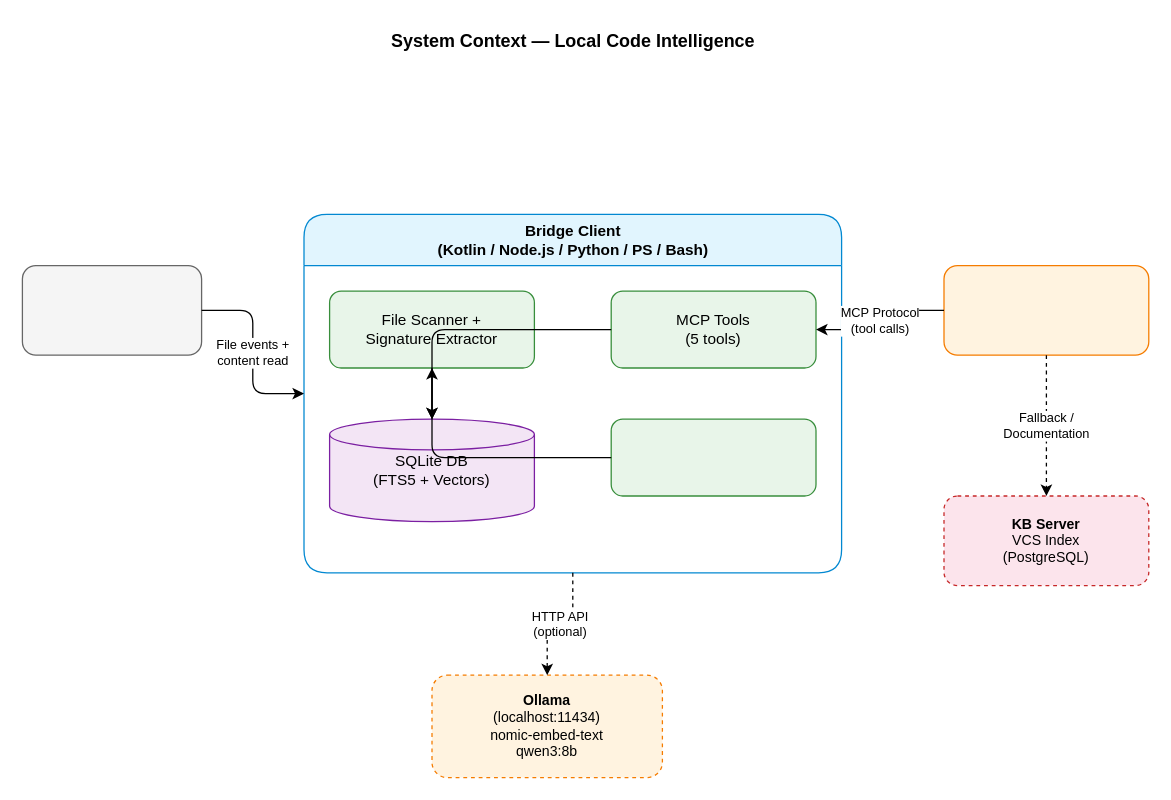
Some shapes in this 1171 by 800 pixel diagram are drawn without their labels. The centre of each missing label's shape, as x and y in pixels:
"Background Indexing Engine" goes at [713,457].
"MCP Agents (BA, TA, SA, DEV)" goes at [1046,309].
"Workspace File System" goes at [111,309].
